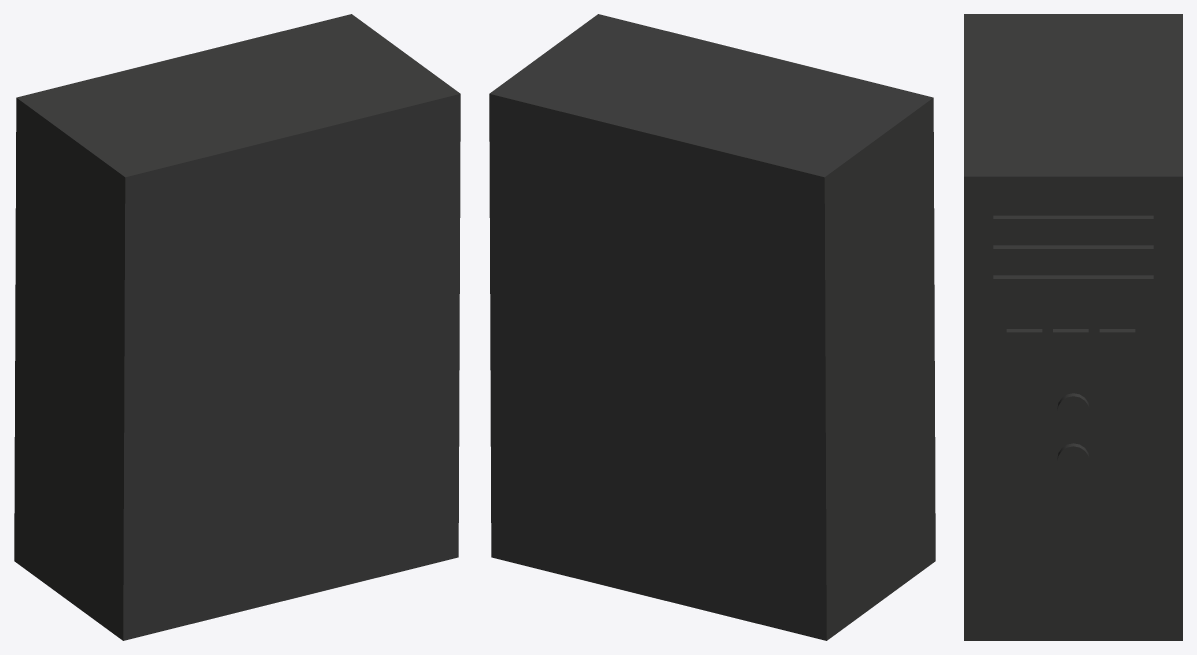
Rendered from komputer.fbx.
3 renders of one model, left to right at view 1: azimuth 30°, elevation 25°; view 2: azimuth 150°, elevation 25°; view 3: azimuth 270°, elevation 25°, orthographic.
Parts seen in each view (by area): view 1: komputer; view 2: komputer; view 3: komputer.
Boxes of the visible parts, x1=… form: komputer: x1=14, y1=14, x2=460, y2=640; komputer: x1=489, y1=14, x2=935, y2=640; komputer: x1=964, y1=14, x2=1182, y2=640.
Bounding box in the file's own units: 119 × 218 × 281.
